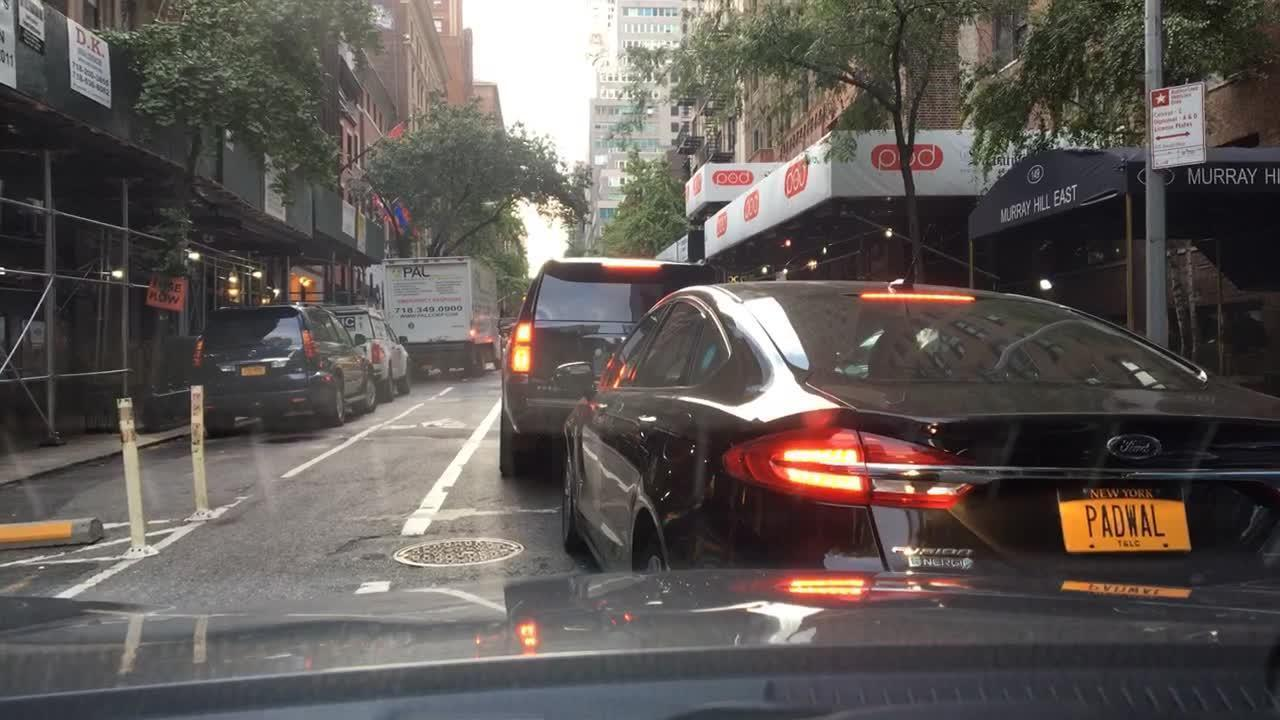ford: (1095, 423, 1170, 461)
